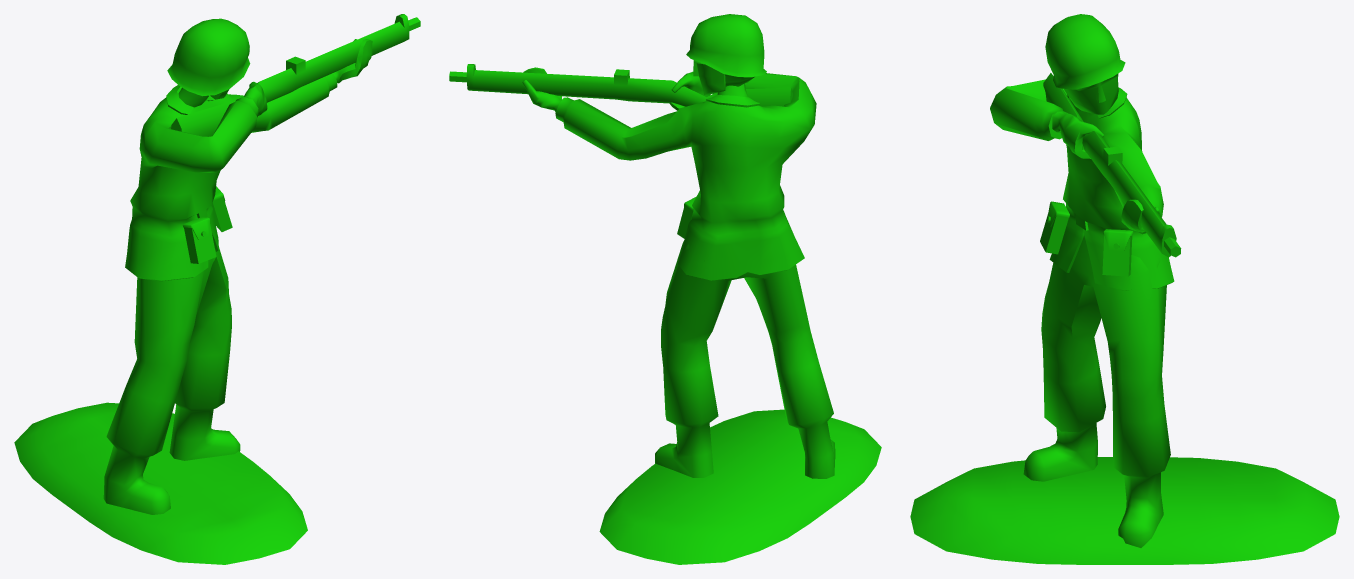
The model's file is Soldier1.obj.
3 renders of one model, left to right at view 1: azimuth 30°, elevation 25°; view 2: azimuth 150°, elevation 25°; view 3: azimuth 270°, elevation 25°, orthographic. The views are drawn at different scales.
Parts seen in each view (by area): view 1: soldier_Cube.001; view 2: soldier_Cube.001; view 3: soldier_Cube.001.
Part boxes in pixels (x1,y1,x2,y2): soldier_Cube.001: (14, 14, 420, 564); soldier_Cube.001: (449, 14, 881, 564); soldier_Cube.001: (910, 14, 1339, 564).
Bounding box in the file's own units: 3.82 × 4.63 × 3.51.
